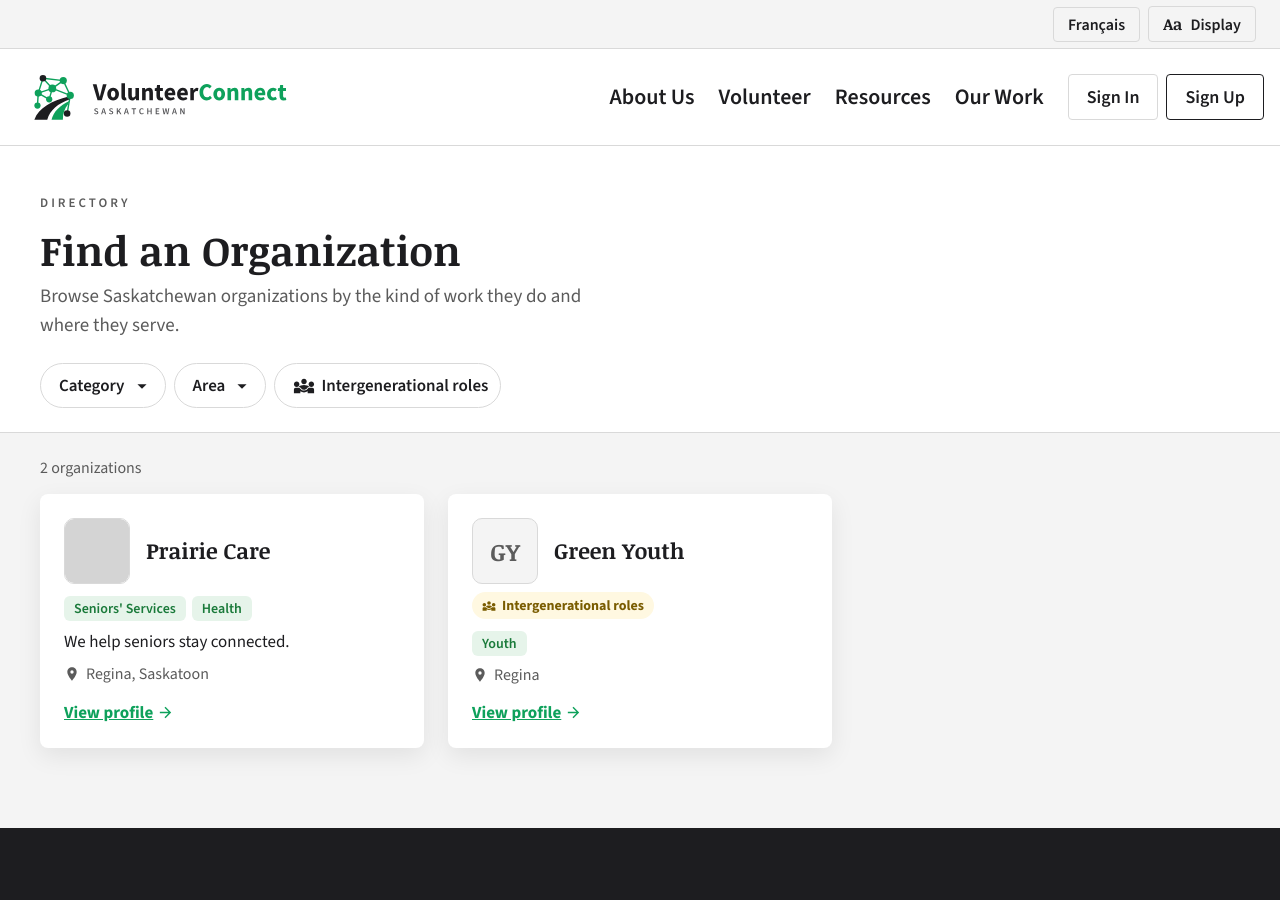
Test: filters to organizations with intergenerational roles and shows the badge
Check: the link "Prairie Care" is shown, box 146,535 -> 270,565
Click the button "Intergenerational roles" at (388, 386), box 274,363 -> 501,408
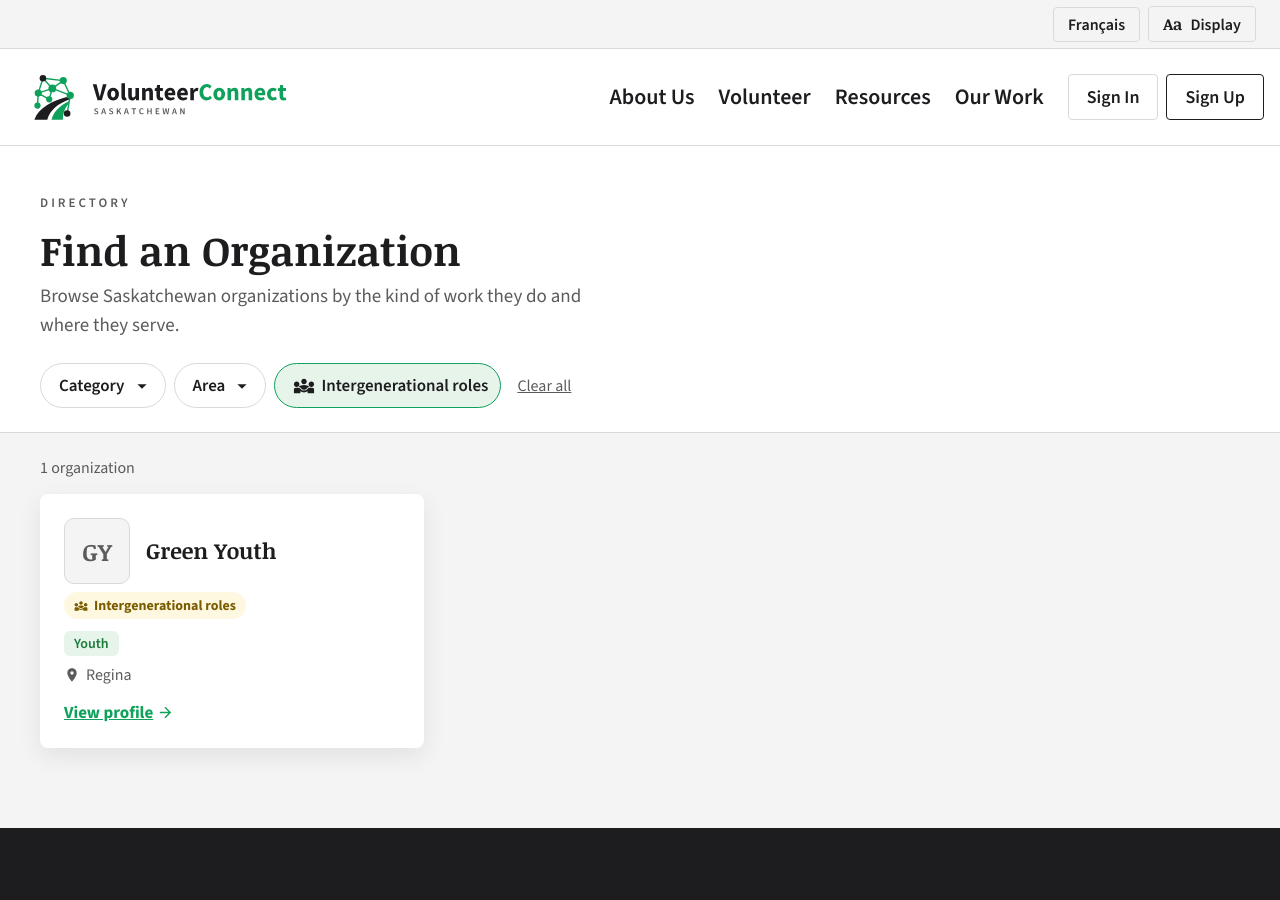
Check: the text "1 organization" is shown, box 40,457 -> 135,478
